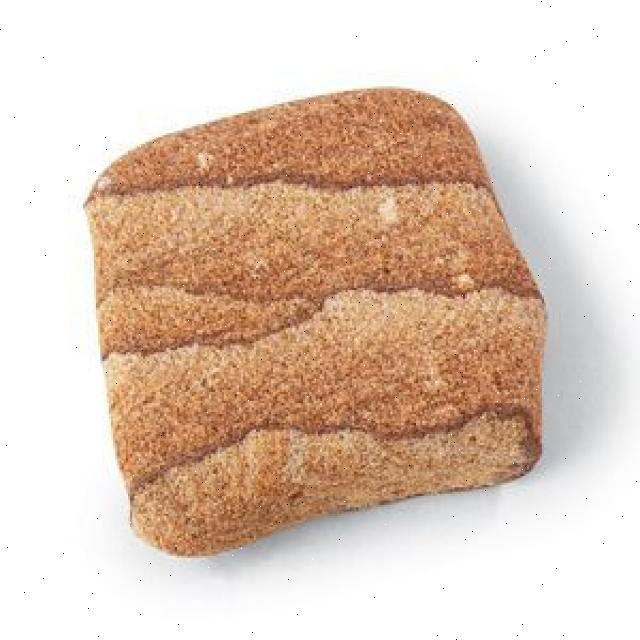Sedimentary: (77, 88, 565, 562)
